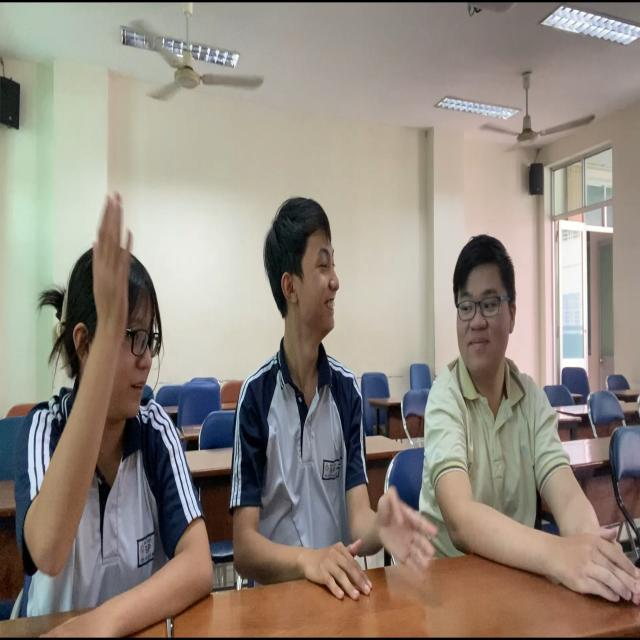raise_hand: (1, 171, 232, 640)
